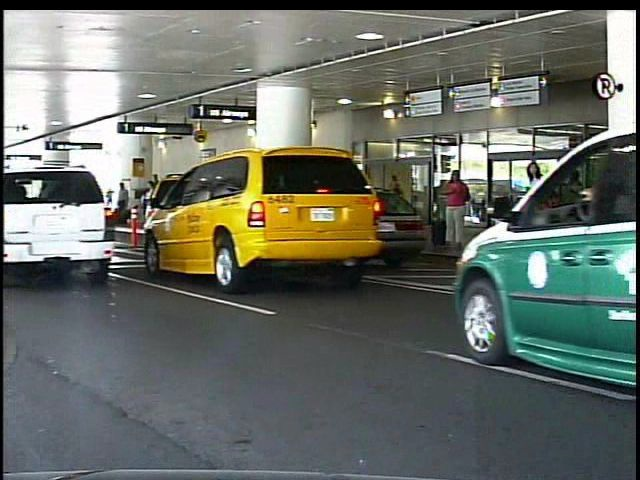person: (526, 160, 553, 264), (444, 167, 473, 253), (390, 172, 413, 238), (119, 179, 135, 230)
